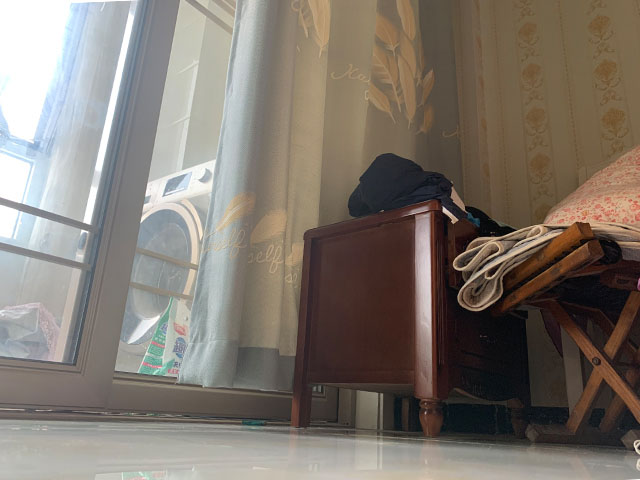cabinet: (290, 199, 535, 440), (495, 219, 640, 447)
curtain: (174, 1, 478, 391)
